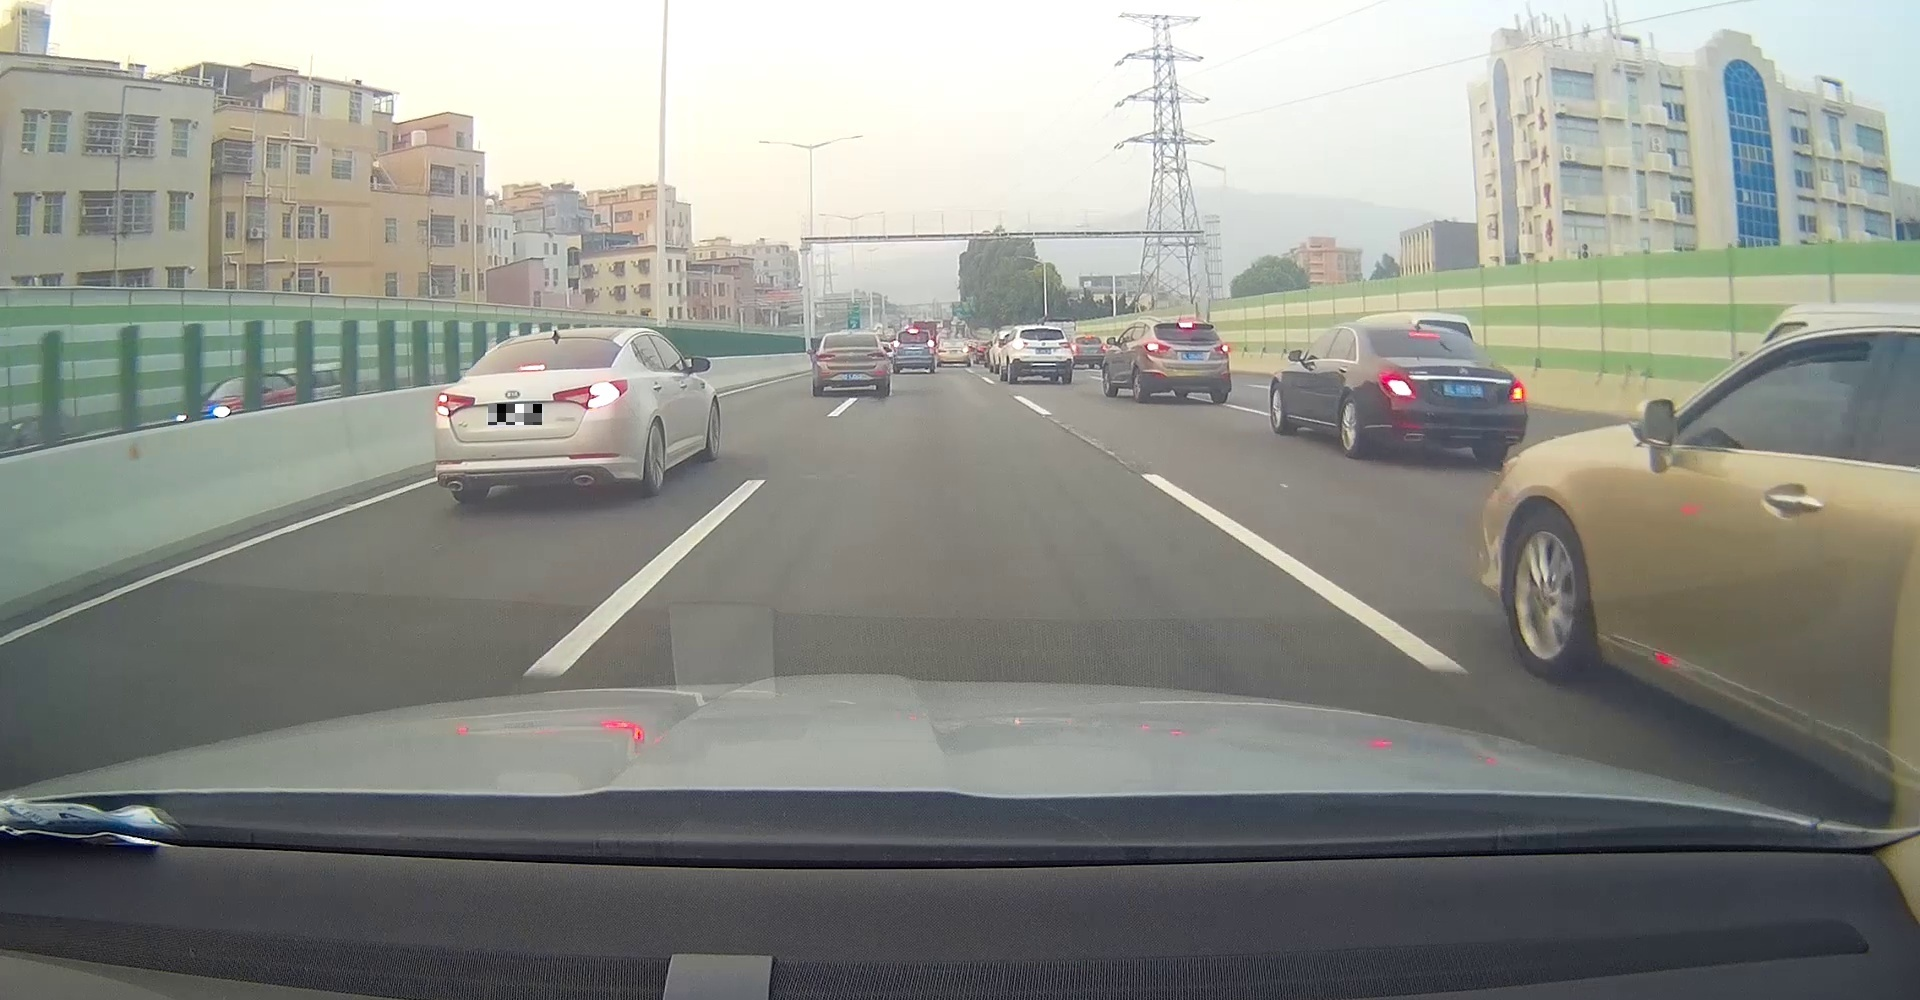L_light: (1378, 369, 1418, 401), (434, 391, 476, 418), (1143, 341, 1171, 353), (815, 352, 836, 360), (1011, 340, 1029, 349), (893, 341, 900, 346)
R_light: (552, 379, 629, 410), (1507, 379, 1528, 402), (1213, 343, 1230, 354), (866, 352, 885, 359), (1058, 341, 1072, 348), (927, 340, 935, 346)
T_light: (1408, 331, 1441, 338), (518, 364, 546, 371), (1178, 322, 1192, 327), (1036, 327, 1049, 330), (844, 335, 857, 338), (909, 331, 918, 332)
day-brake: (434, 327, 630, 503), (1363, 322, 1528, 459), (1142, 316, 1230, 404), (893, 329, 935, 374)
day-left: (1010, 325, 1074, 385)
day-no: (811, 332, 889, 397)
plate_1: (488, 404, 542, 425)
